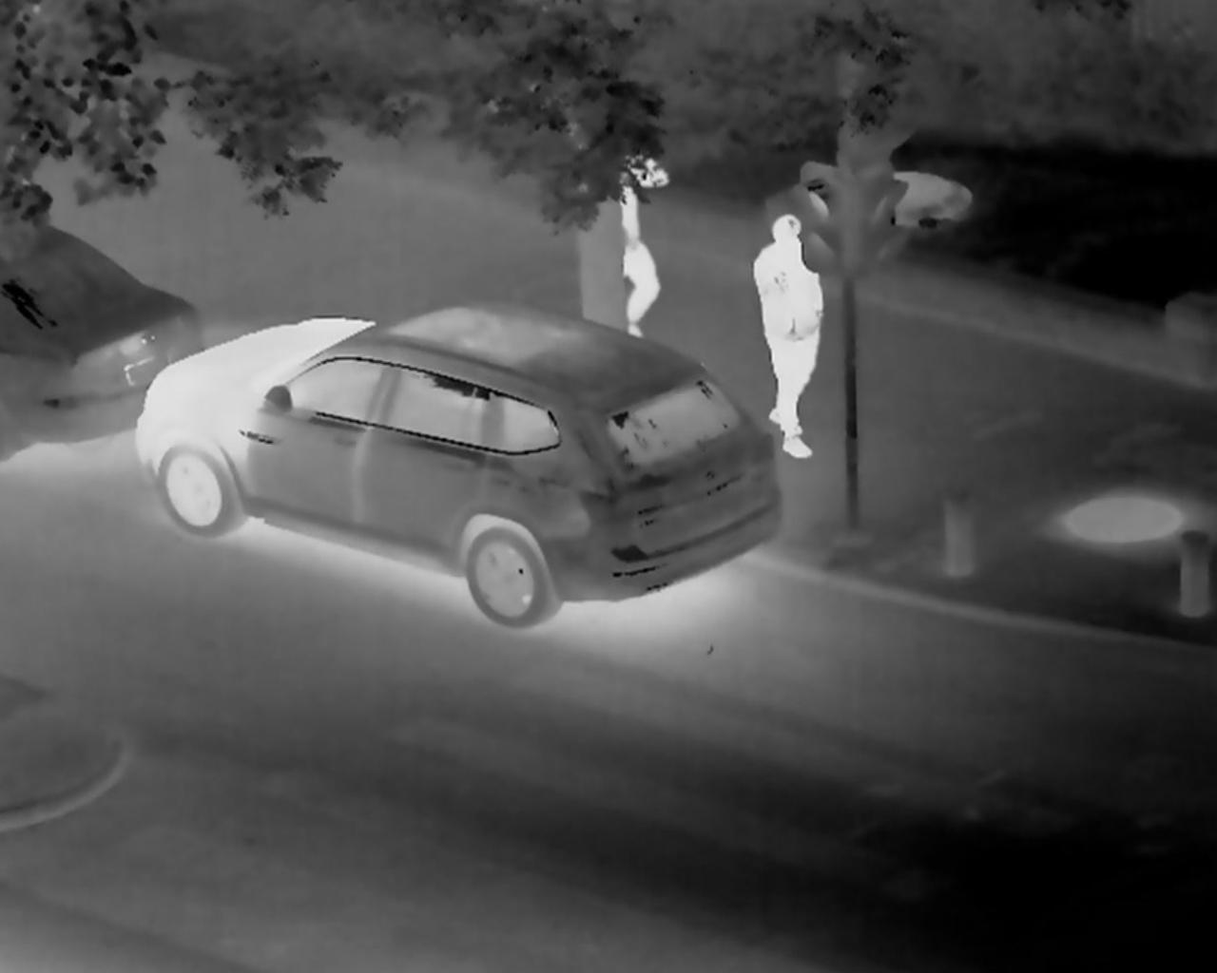person: (749, 208, 823, 463), (614, 143, 672, 340)
